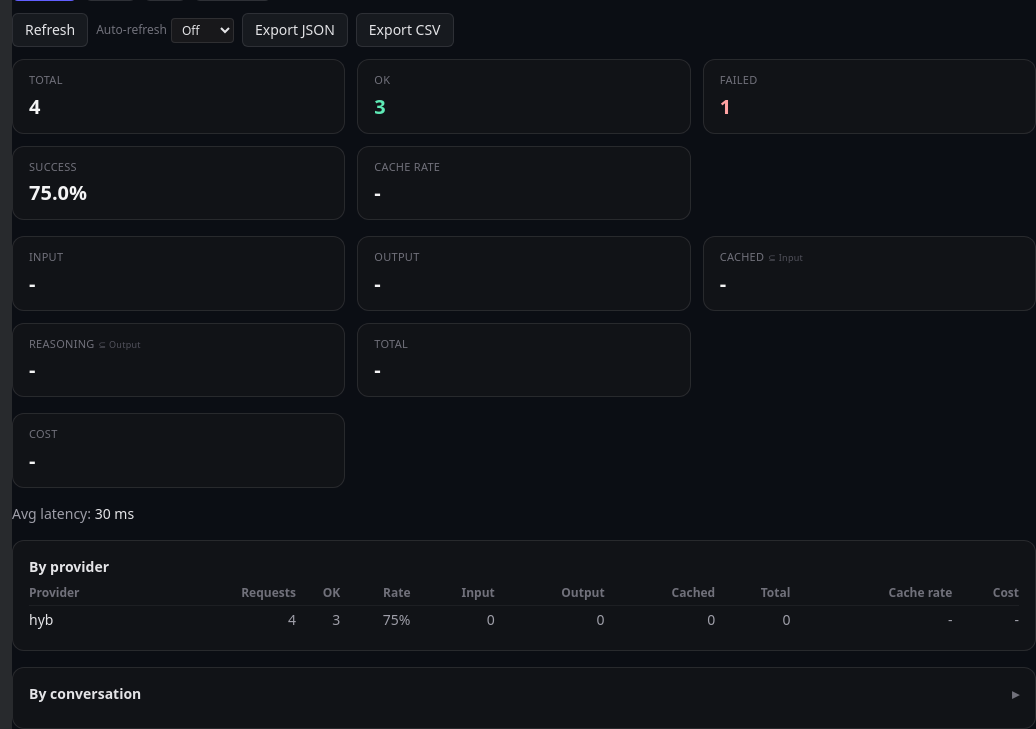
Scenario: StatsPanel › renders dashes for token metrics when only legacy data exists
(page scrolled)
Click the button "By conversation ▸": x=85, y=693 [29,684,1019,704]
(page scrolled)
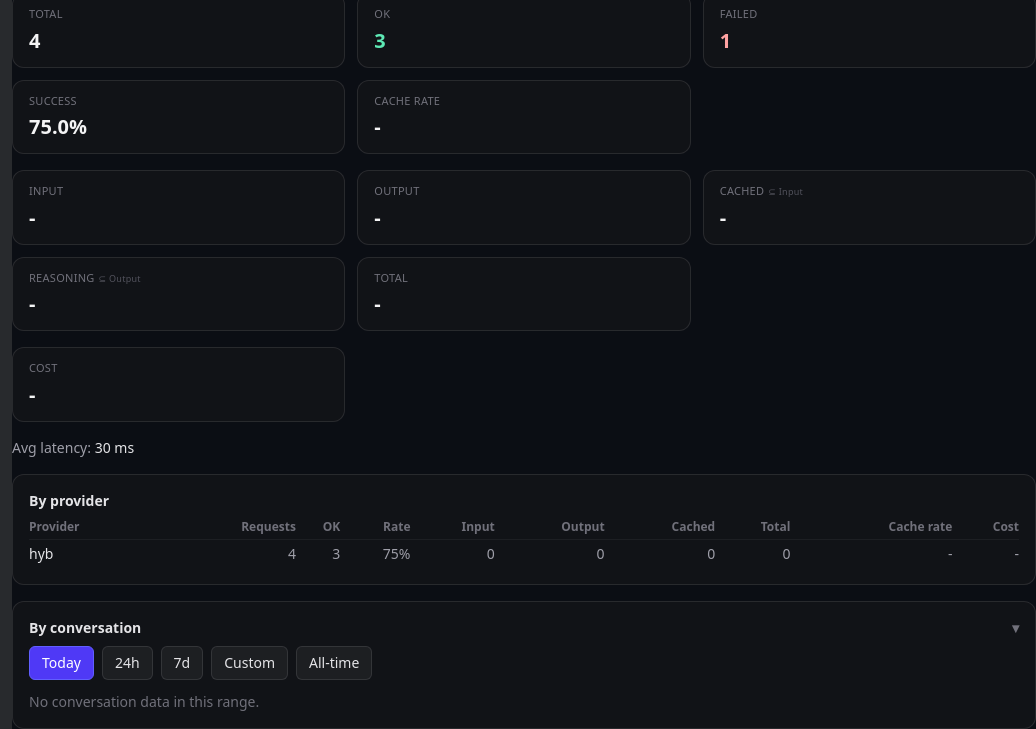
Check: the text "No conversation data in this range." is shown, box [29,692,259,710]
